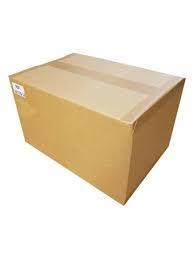box: (9, 52, 186, 204)
